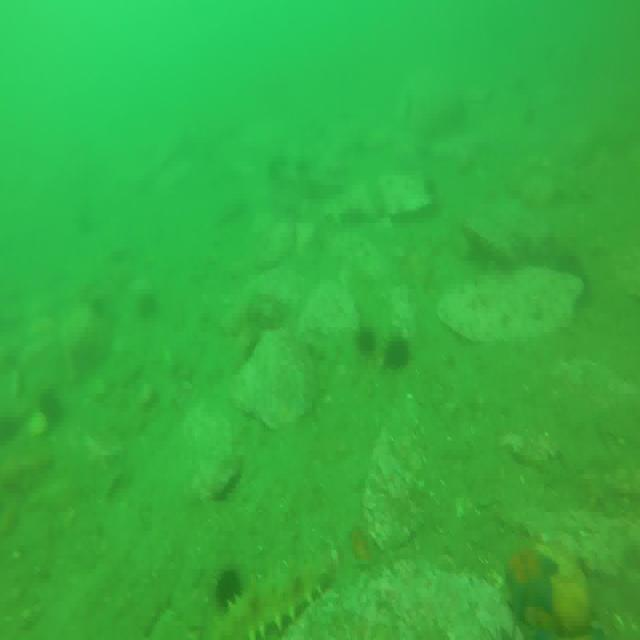echinus: (216, 566, 239, 611), (382, 334, 411, 368), (354, 324, 378, 354)
holothurian: (219, 560, 334, 640)
starfish: (503, 540, 560, 620)
